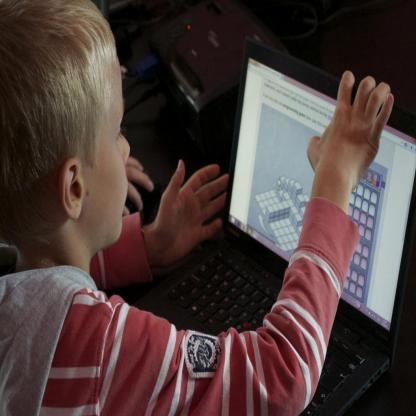board: (124, 36, 415, 414)
